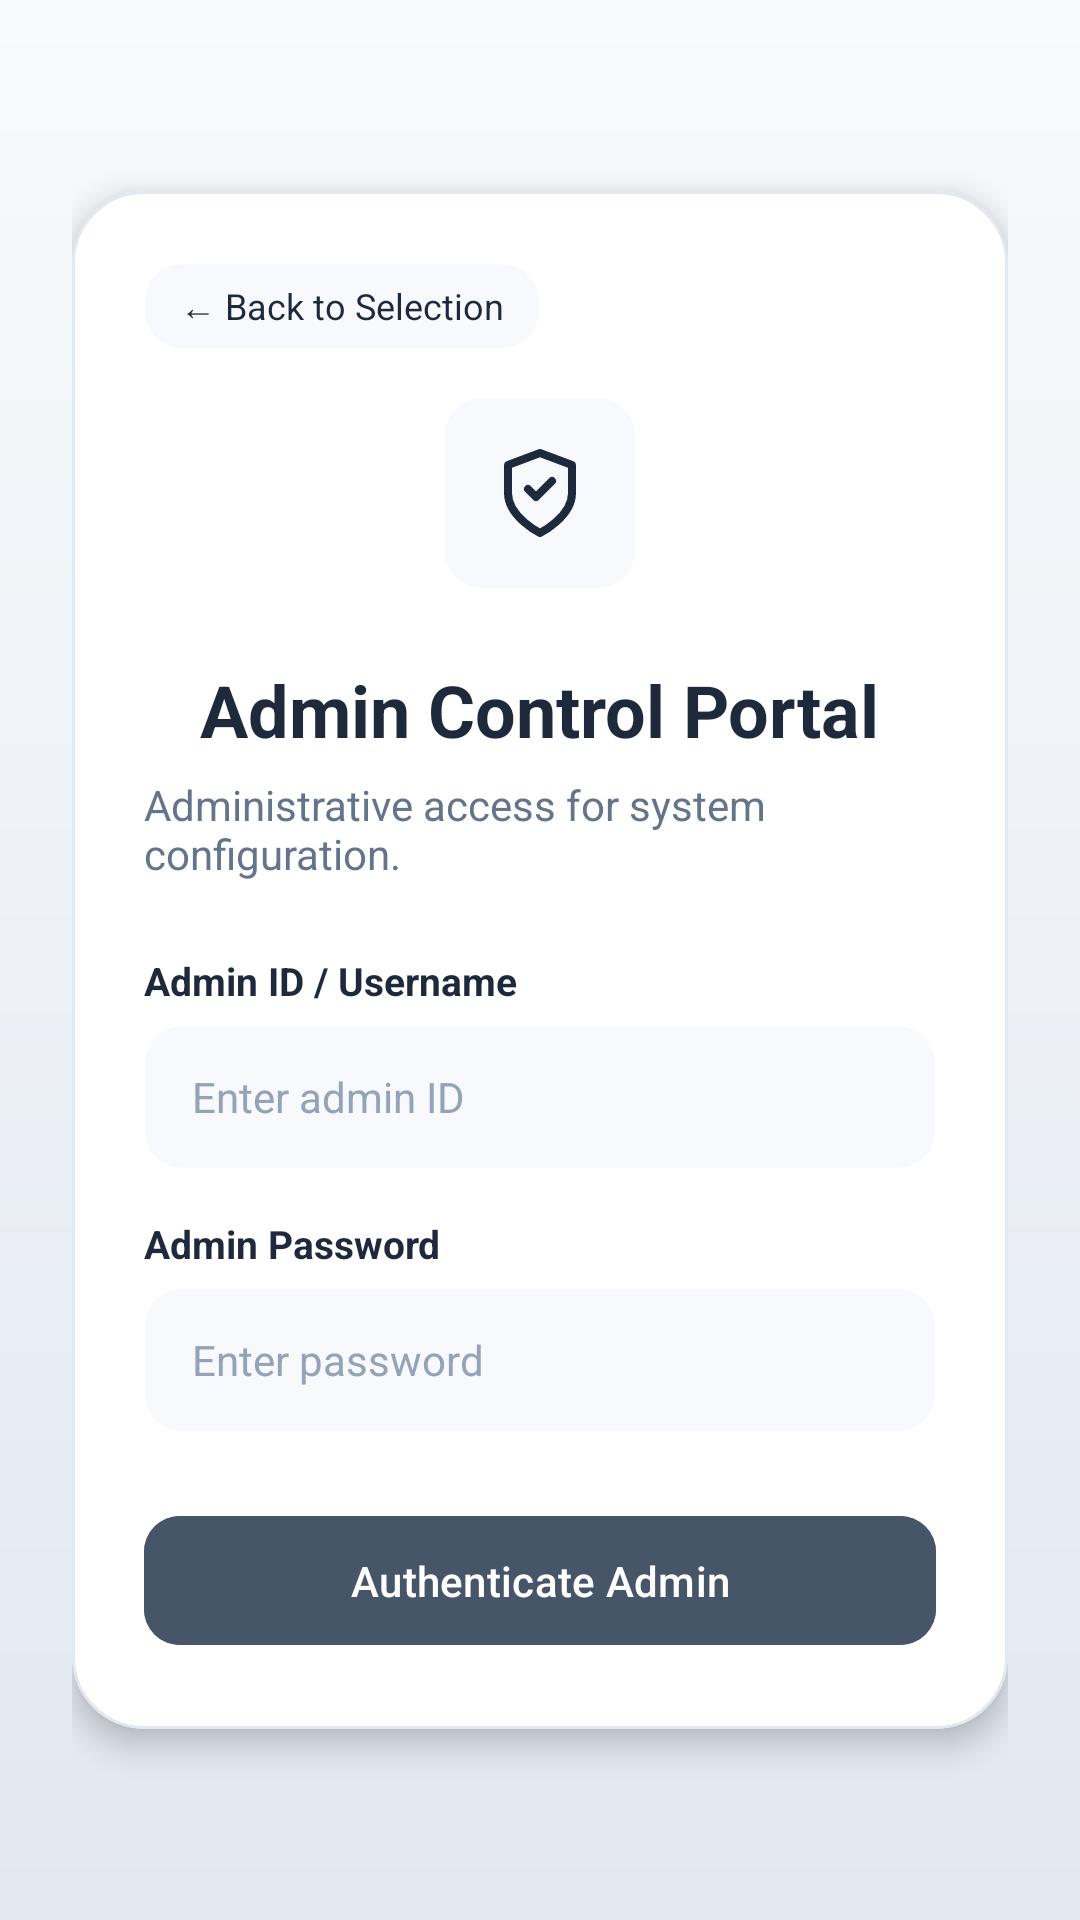

Where icons sit on this 1080 x 1920 app screen, as bbox=(x1, y1, x2, y2):
shield check: bbox=(504, 449, 576, 537)
